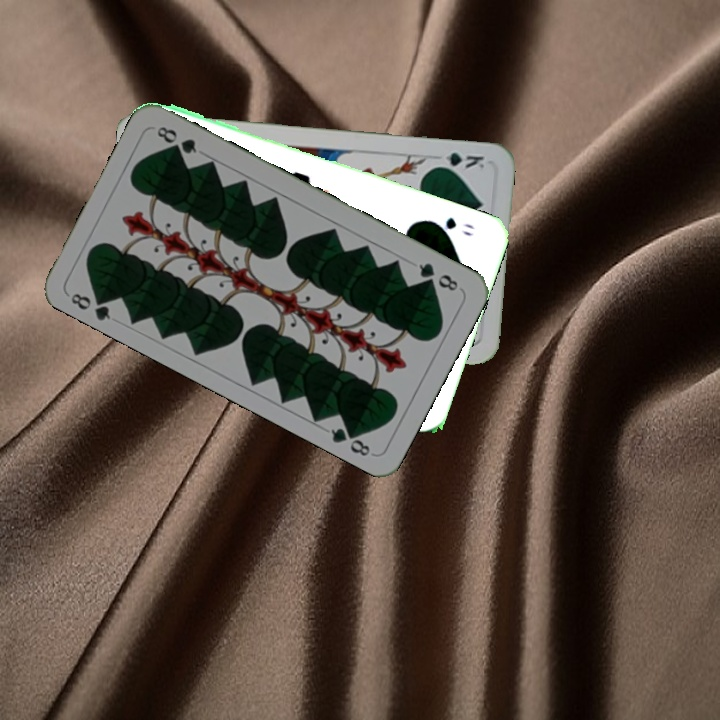G8: (66, 288, 114, 323), (414, 259, 461, 294)
GK: (430, 148, 487, 173)
GO: (425, 213, 476, 239)
